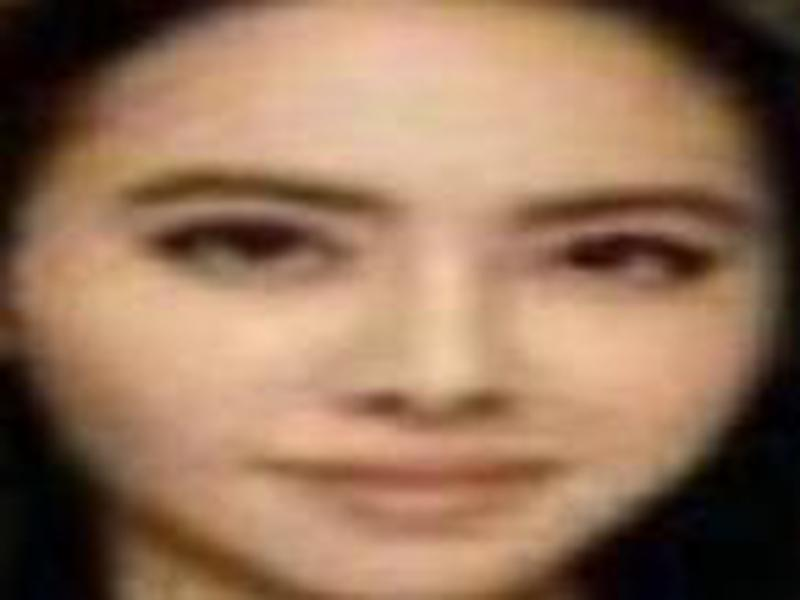without_mask: (59, 38, 751, 587)
